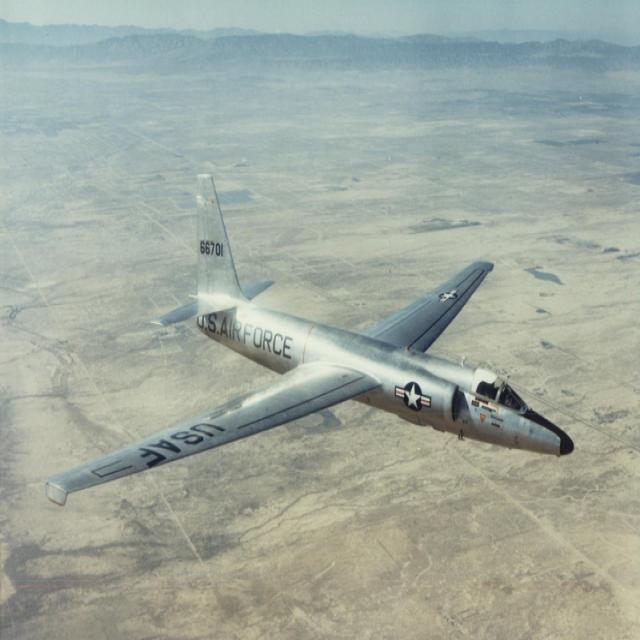MIL_Plane: (45, 172, 575, 506)
